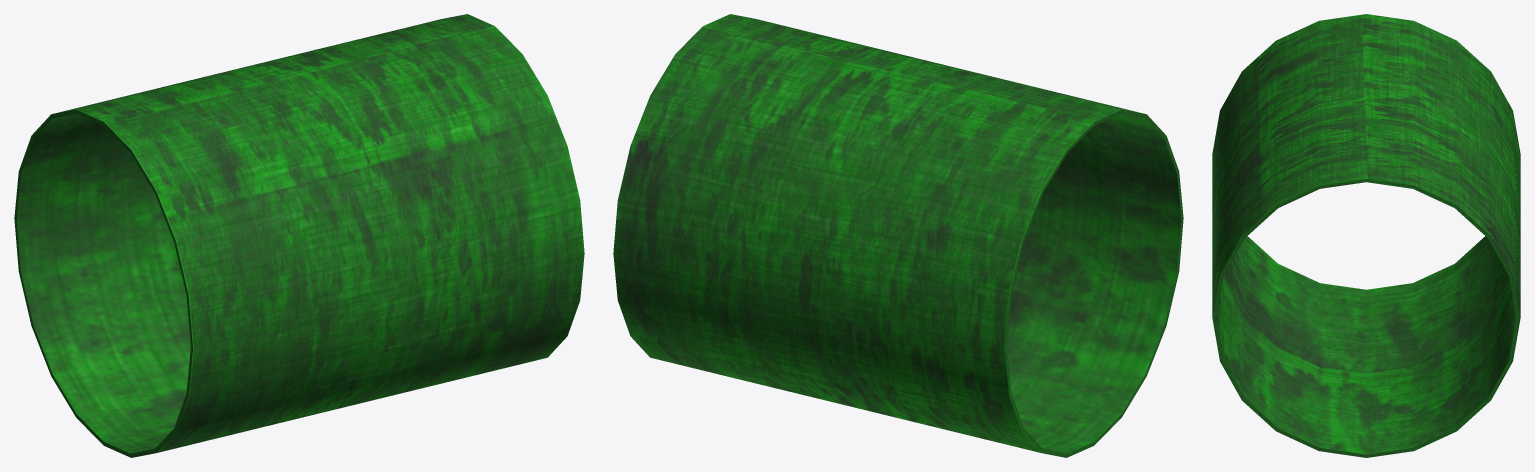
Rendered from CubeBaseFrontPipeNormalG.fbx.
The picture shows the model from 3 angles, left to right: view 1: azimuth 30°, elevation 25°; view 2: azimuth 150°, elevation 25°; view 3: azimuth 270°, elevation 25°; orthographic projection. The views are drawn at different scales.
Visible parts, largest first — view 1: pPipe1; view 2: pPipe1; view 3: pPipe1.
Part boxes in pixels (x1,y1,x2,y2): pPipe1: (14,14,584,457); pPipe1: (613,14,1183,457); pPipe1: (1212,14,1520,457).
Bounding box in the file's own units: 1.01 × 0.8 × 0.8.
Materials: 1 (1 with a texture image).
